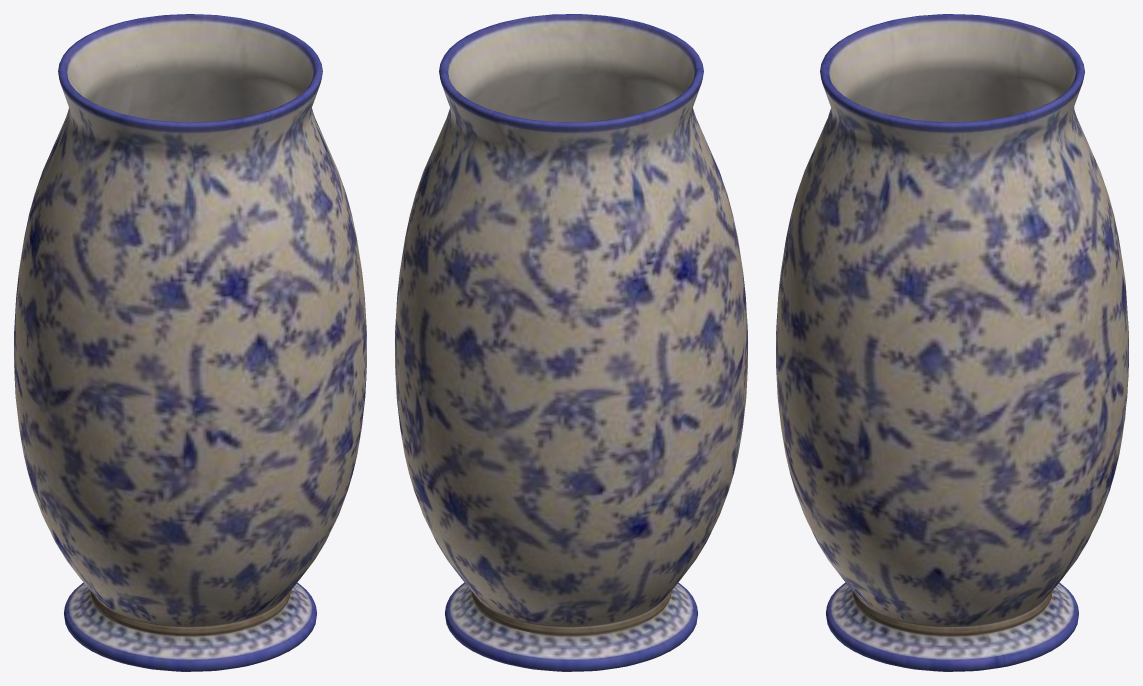
Rendered from antique_ceramic_vase_01.glb.
The picture shows the model from 3 angles, left to right: view 1: azimuth 30°, elevation 25°; view 2: azimuth 150°, elevation 25°; view 3: azimuth 270°, elevation 25°; orthographic projection.
Visible parts, largest first — view 1: antique_ceramic_vase_01; view 2: antique_ceramic_vase_01; view 3: antique_ceramic_vase_01.
Boxes of the visible parts, <box> form: antique_ceramic_vase_01: <box>14,14,366,671</box>; antique_ceramic_vase_01: <box>395,14,747,671</box>; antique_ceramic_vase_01: <box>776,14,1128,671</box>.
Size of the model in its own units: 0.2548 by 0.4397 by 0.2549.
1 material, 1 textured.
